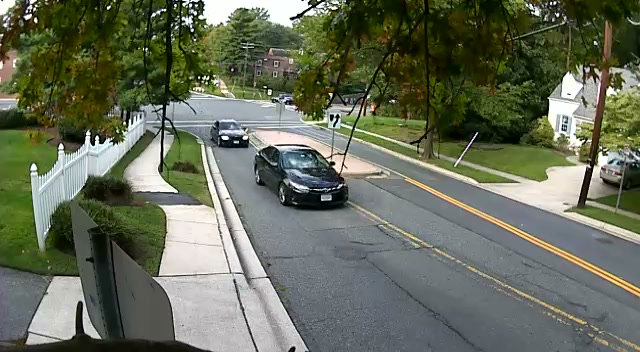car: (253, 143, 349, 208), (600, 151, 640, 189), (211, 119, 248, 148), (277, 94, 293, 104)
